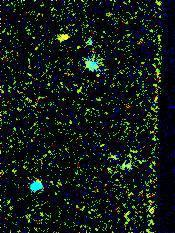star: (49, 22, 79, 52)
